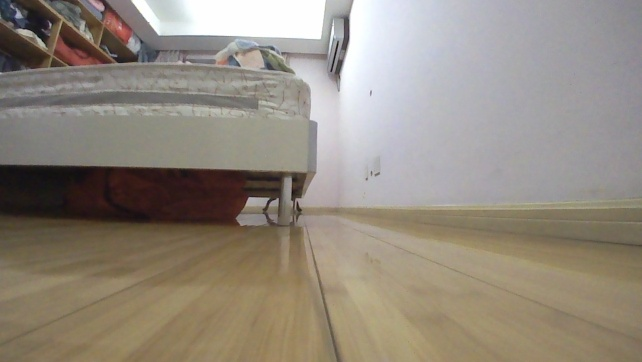bed1: (0, 58, 319, 220)
